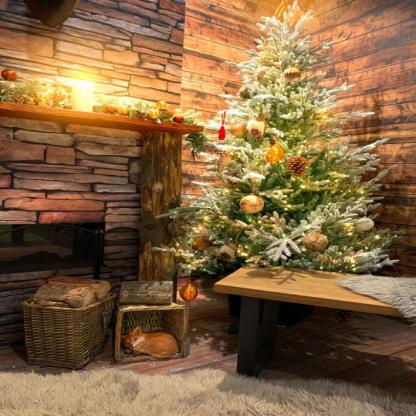x_mas tree: (146, 0, 410, 301)
